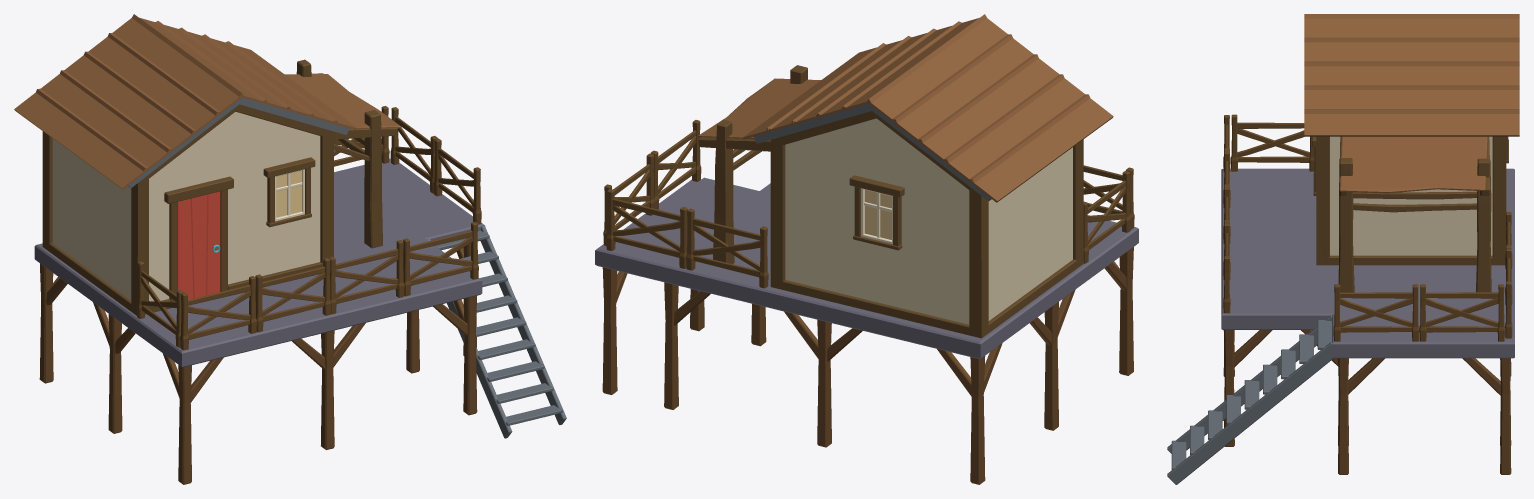
The model's file is littlehouse_c.gltf.
The picture shows the model from 3 angles, left to right: view 1: azimuth 30°, elevation 25°; view 2: azimuth 150°, elevation 25°; view 3: azimuth 270°, elevation 25°; orthographic projection. The views are drawn at different scales.
Parts seen in each view (by area): view 1: Shape023, Box1384, Box1395, littlehouse_c001, Box1405, Box1421, Box1416, Shape022; view 2: Box1384, Shape023, Box1395, littlehouse_c001, Box1421, Box1405, Shape022; view 3: Shape023, Box1395, littlehouse_c001, Box1405, Box1384, Box1416, Box1421.
Part boxes in pixels (x1,y1,x2,y2): Shape023: (14,14,401,189); Box1384: (52,111,320,301); Box1395: (34,158,485,367); littlehouse_c001: (42,59,397,315); Box1405: (136,106,481,350); Box1421: (39,243,477,484); Box1416: (427,225,566,438); Shape022: (127,97,349,188); Box1384: (785,118,1072,324); Shape023: (698,14,1113,202); Box1395: (595,179,1138,359); littlehouse_c001: (698,65,1083,338); Box1421: (602,247,1133,484); Box1405: (603,120,1134,288); Shape022: (754,103,991,201); Shape023: (1304,14,1519,193); Box1395: (1221,168,1514,358); littlehouse_c001: (1312,136,1508,292); Box1405: (1223,114,1512,341); Box1384: (1330,136,1492,255); Box1416: (1167,315,1333,484); Box1421: (1223,330,1511,474).
Bounding box in the file's own units: 5.95 × 5.23 × 4.83.
Materials: 1 (1 with a texture image).
